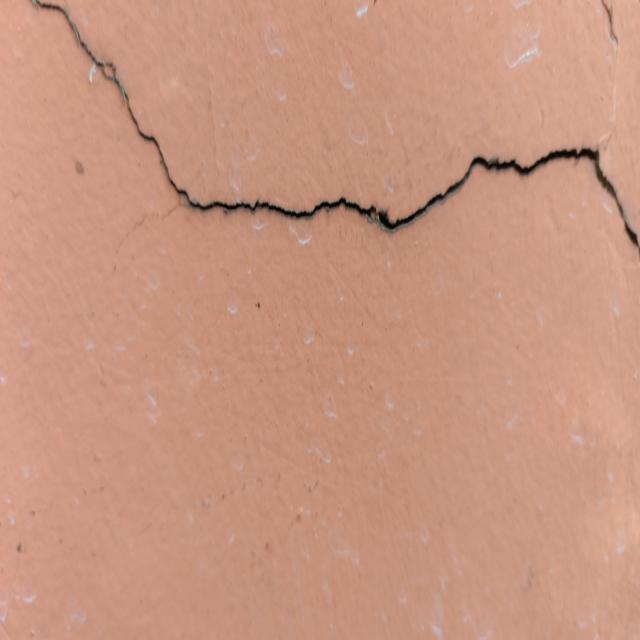curved crack: (31, 0, 640, 253)
